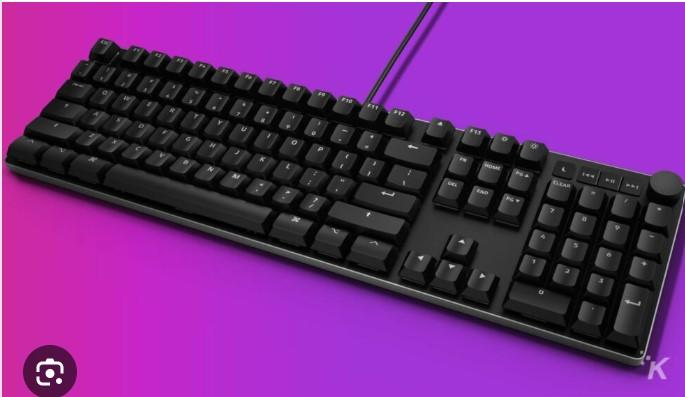Keyboard: (5, 39, 685, 368)
